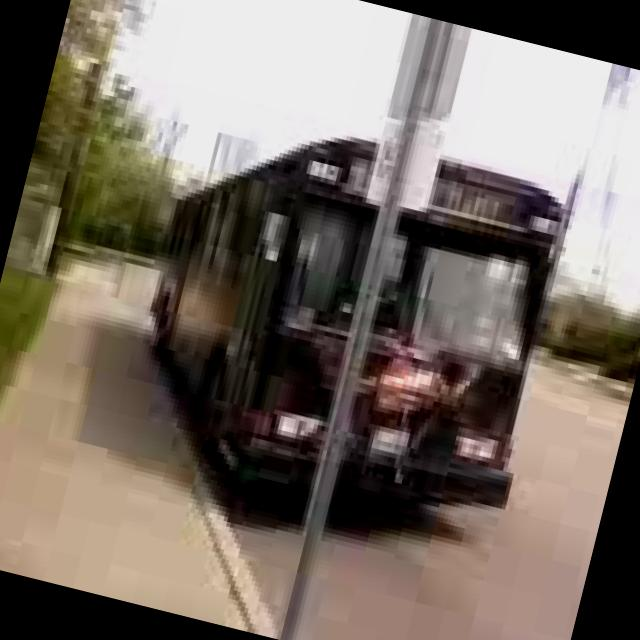Vehicle: (112, 99, 588, 550)
